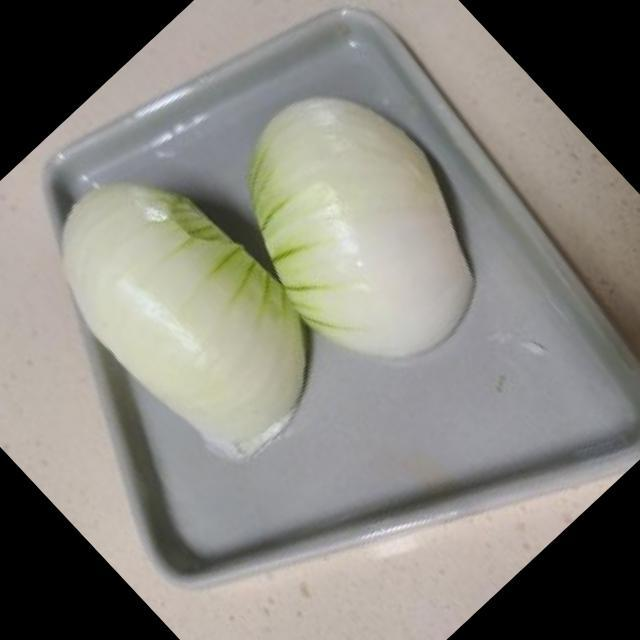Onion: (59, 180, 308, 460), (252, 101, 473, 362)
